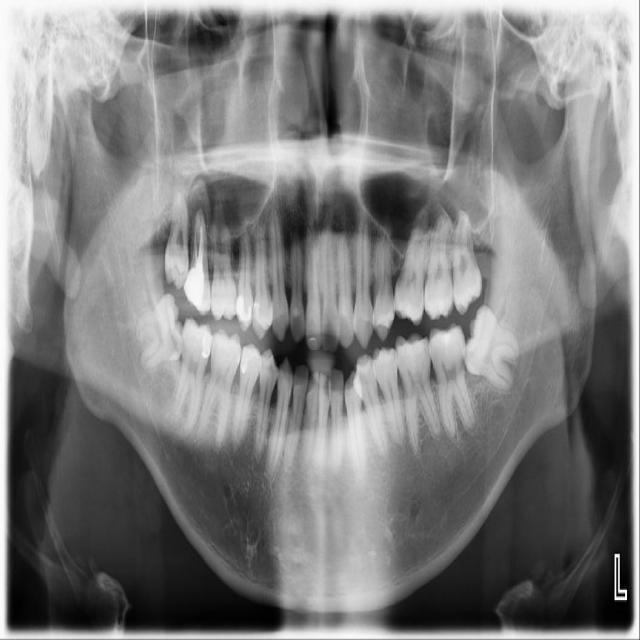Filling: (183, 267, 211, 317), (254, 294, 275, 340), (239, 343, 262, 381), (236, 290, 254, 332), (197, 326, 213, 366)
Root Canal Treatment: (199, 214, 204, 262), (193, 218, 198, 258)
impacted tooth: (464, 305, 519, 395), (135, 296, 181, 369)
